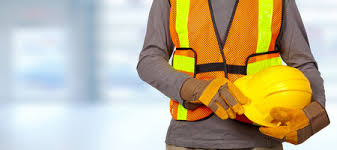Helmet: (236, 69, 317, 133)
Jacket: (160, 3, 283, 127)
